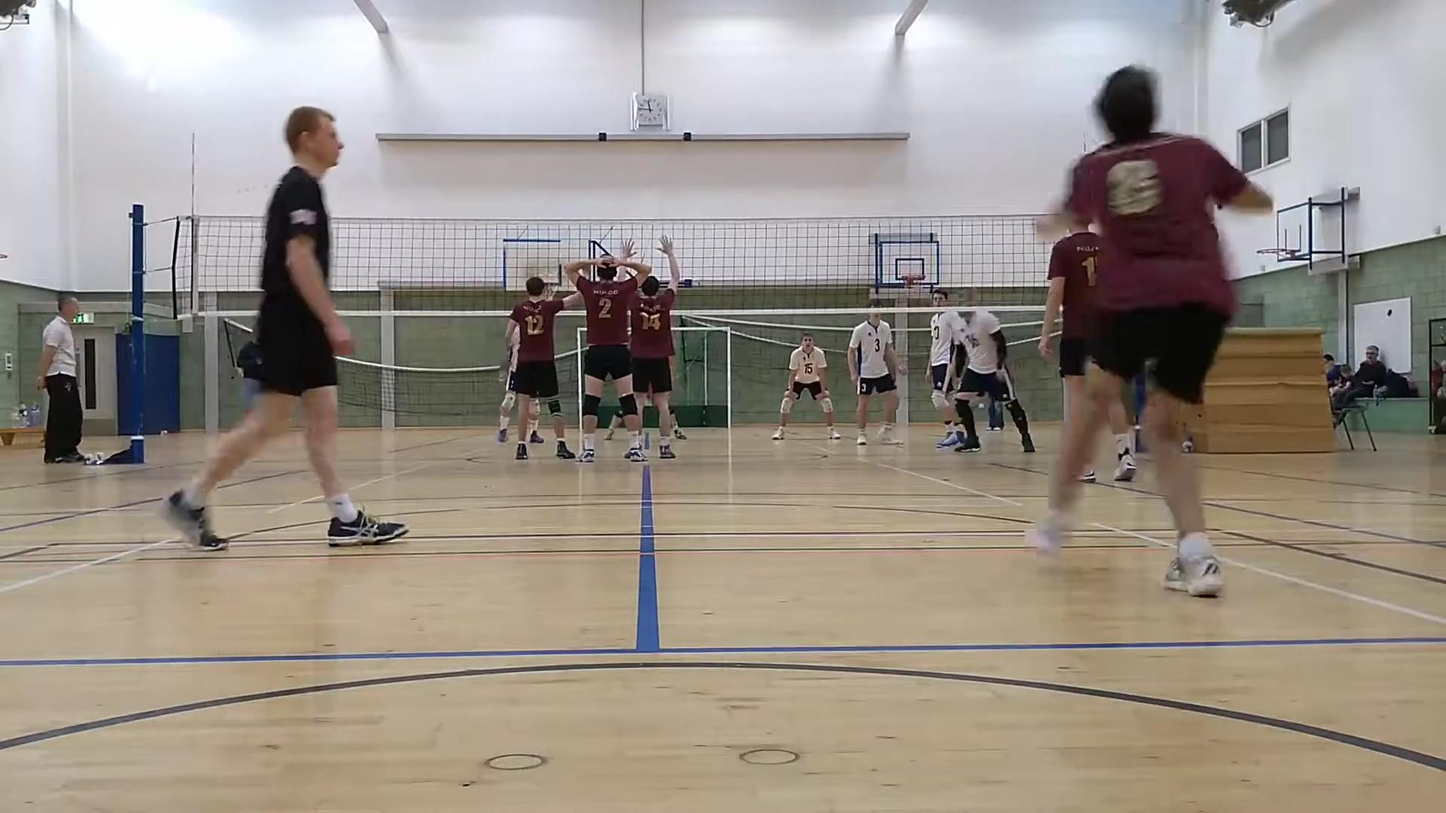Player: (162, 108, 407, 550), (564, 241, 651, 462), (508, 277, 581, 459), (1039, 229, 1099, 420), (954, 309, 1034, 452), (630, 236, 680, 458), (848, 300, 905, 445), (772, 333, 840, 440), (929, 288, 964, 448), (498, 328, 518, 442), (668, 399, 687, 439)
Serve: (1033, 60, 1277, 611)
